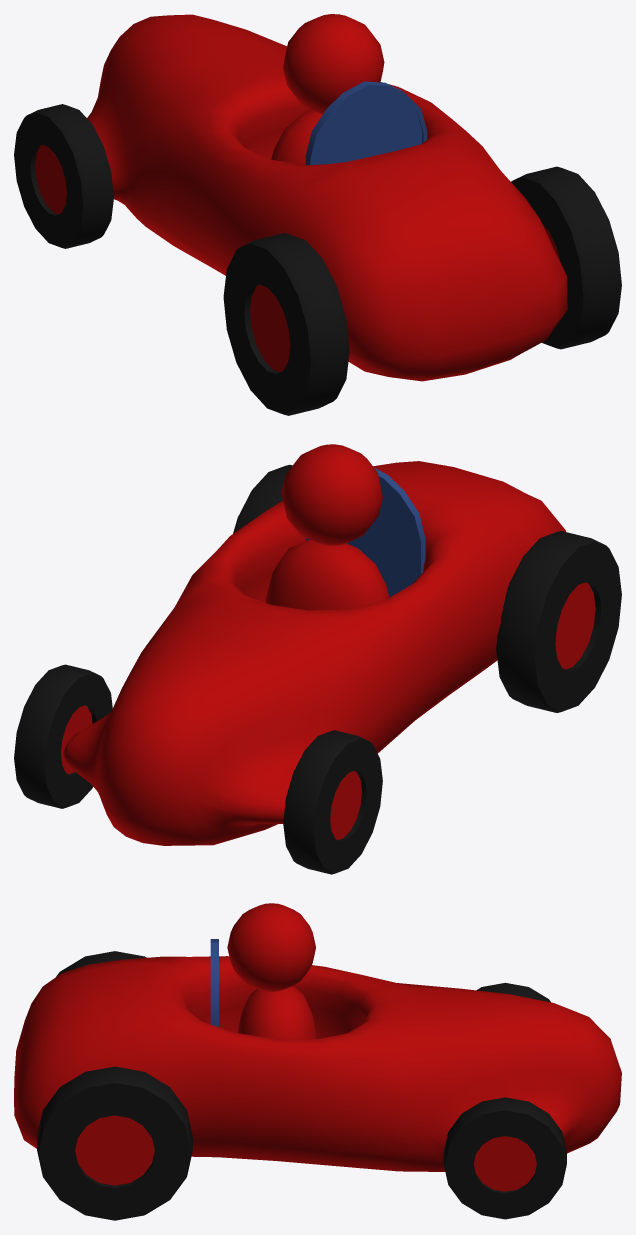
Rendered from TestCar.fbx.
The picture shows the model from 3 angles, top to bottom: view 1: azimuth 30°, elevation 25°; view 2: azimuth 150°, elevation 25°; view 3: azimuth 270°, elevation 25°; orthographic projection. The views are drawn at different scales.
Visible parts, largest first — view 1: CarBody, WheelBL, WheelFL, WheelBR, Seat, PlayerHeaed, PlayerBody; view 2: CarBody, WheelBL, WheelFL, WheelFR, PlayerHeaed, PlayerBody, Seat, WheelBR; view 3: CarBody, WheelBR, WheelFR, PlayerHeaed, PlayerBody, Seat, WheelBL, WheelFL.
Part boxes in pixels (<box>): CarBody: <box>87,14,567,381</box>; WheelBL: <box>223,233,349,415</box>; WheelFL: <box>14,104,113,248</box>; WheelBR: <box>511,166,621,349</box>; Seat: <box>305,81,427,165</box>; PlayerHeaed: <box>283,14,384,114</box>; PlayerBody: <box>271,110,322,165</box>; CarBody: <box>63,461,565,845</box>; WheelBL: <box>496,531,621,712</box>; WheelFL: <box>283,730,382,874</box>; WheelFR: <box>14,664,112,808</box>; PlayerHeaed: <box>281,444,382,545</box>; PlayerBody: <box>265,540,389,610</box>; Seat: <box>305,468,425,597</box>; WheelBR: <box>233,464,292,533</box>; CarBody: <box>14,956,621,1171</box>; WheelBR: <box>37,1066,192,1220</box>; WheelFR: <box>443,1097,566,1219</box>; PlayerHeaed: <box>227,903,315,991</box>; PlayerBody: <box>237,986,316,1039</box>; Seat: <box>210,939,218,1026</box>; WheelBL: <box>56,951,146,976</box>; WheelFL: <box>477,982,550,1002</box>.
Size of the model in its own units: 88.02 by 77.8 by 172.
